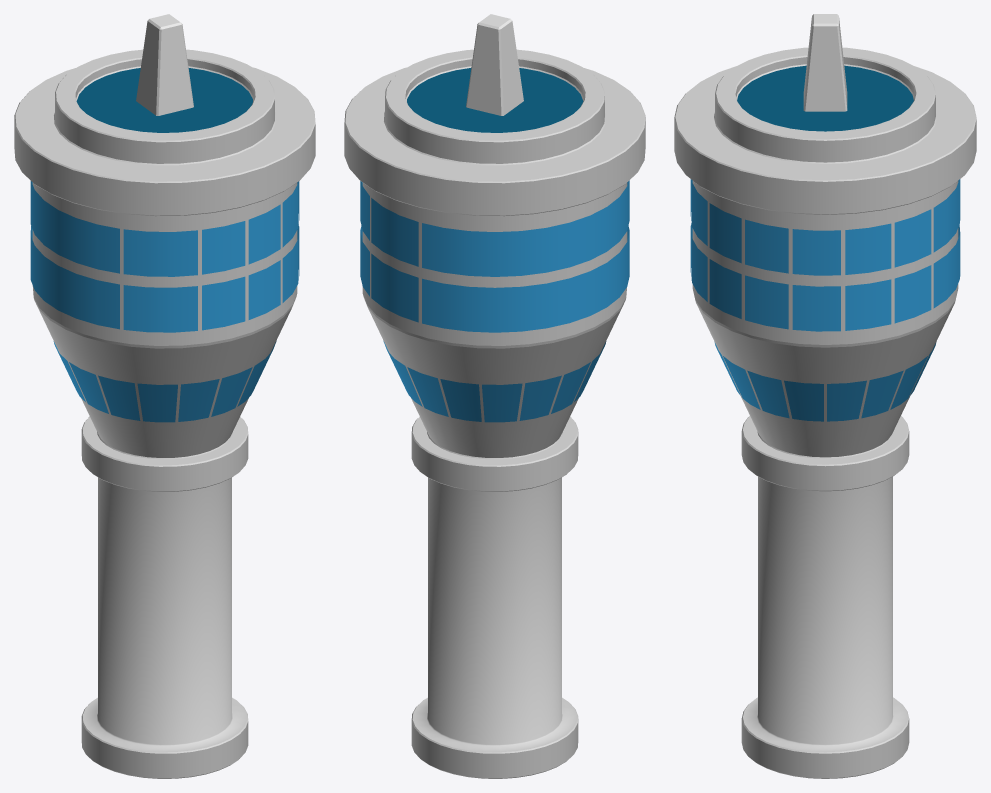
File: tower.fbx
3 views of the same model, side by side, from view 1: azimuth 30°, elevation 25°; view 2: azimuth 150°, elevation 25°; view 3: azimuth 270°, elevation 25° (orthographic).
Parts seen in each view (by area): view 1: Cylinder.015, Cylinder.017, Cylinder.016, Cube.030; view 2: Cylinder.015, Cylinder.017, Cylinder.016, Cube.030; view 3: Cylinder.015, Cylinder.017, Cylinder.016, Cube.030.
Boxes of the visible parts, left/top/right/bottom form: Cylinder.015: left=14, top=49, right=315, bottom=778; Cylinder.017: left=30, top=181, right=299, bottom=332; Cylinder.016: left=53, top=341, right=276, bottom=422; Cube.030: left=136, top=14, right=193, bottom=115; Cylinder.015: left=344, top=49, right=645, bottom=778; Cylinder.017: left=360, top=180, right=629, bottom=332; Cylinder.016: left=383, top=341, right=606, bottom=422; Cube.030: left=466, top=14, right=523, bottom=115; Cylinder.015: left=674, top=47, right=976, bottom=778; Cylinder.017: left=690, top=179, right=960, bottom=331; Cylinder.016: left=714, top=342, right=936, bottom=421; Cube.030: left=803, top=14, right=847, bottom=111.
Bounding box in the file's own units: 454 × 1200 × 454.
